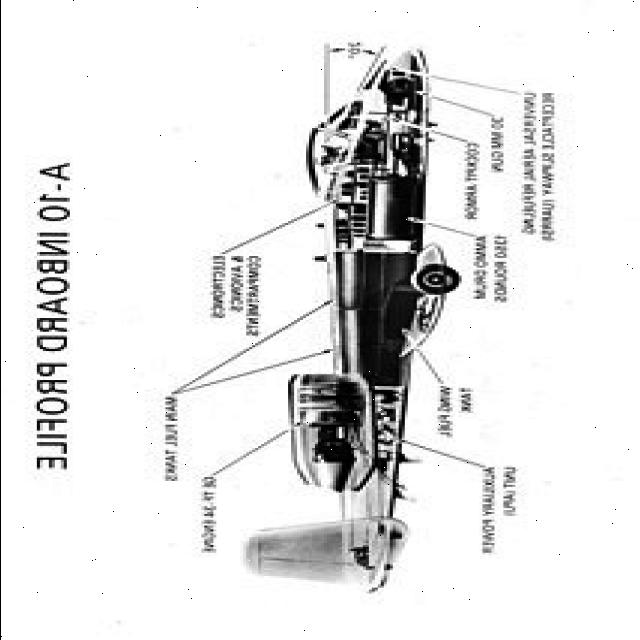A10: (156, 31, 562, 612)
